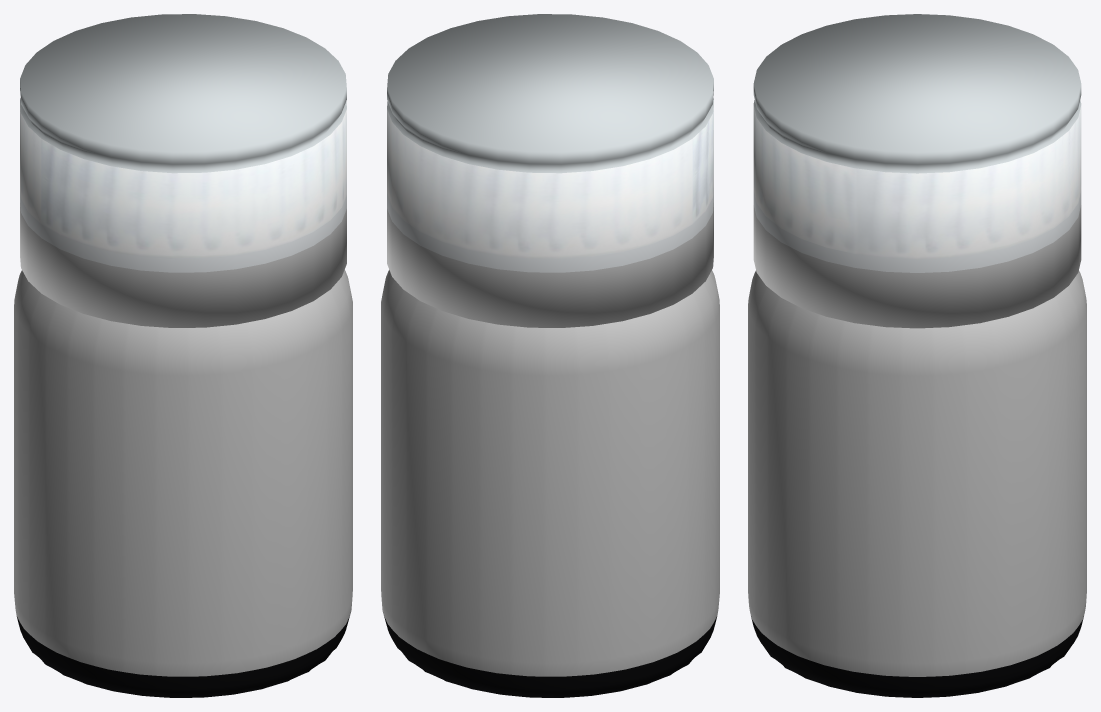
File: 20180504GOPHDRGPT31795.fbx
3 renders of one model, left to right at view 1: azimuth 30°, elevation 25°; view 2: azimuth 150°, elevation 25°; view 3: azimuth 270°, elevation 25°, orthographic.
Parts seen in each view (by area): view 1: 圓柱體.002; view 2: 圓柱體.002; view 3: 圓柱體.002.
Boxes of the visible parts, x1=… form: 圓柱體.002: x1=14, y1=14, x2=352, y2=697; 圓柱體.002: x1=381, y1=14, x2=719, y2=697; 圓柱體.002: x1=748, y1=14, x2=1086, y2=697.
Size of the model in its own units: 6.03 by 10.84 by 6.03.
